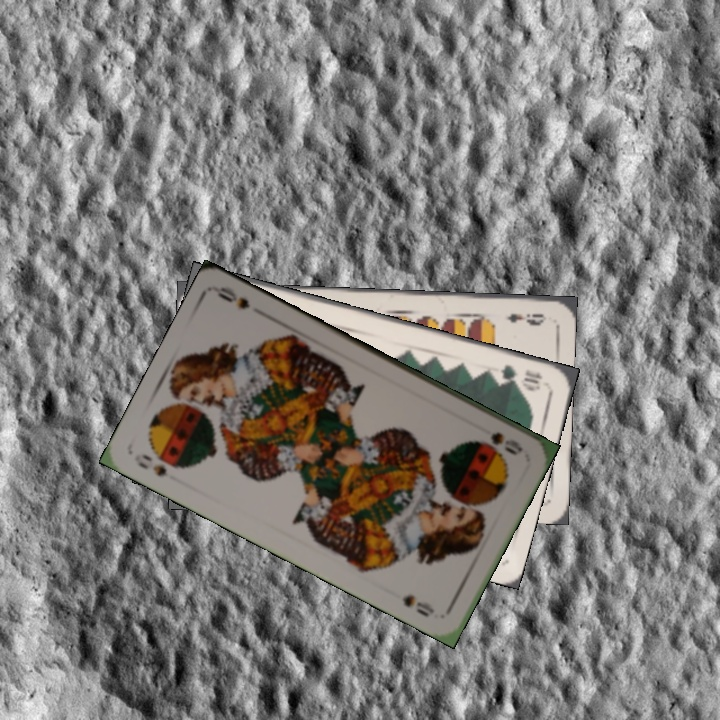E9: (503, 309, 549, 328)
G10: (496, 360, 545, 393)
SO: (133, 450, 180, 479), (486, 427, 526, 458)
